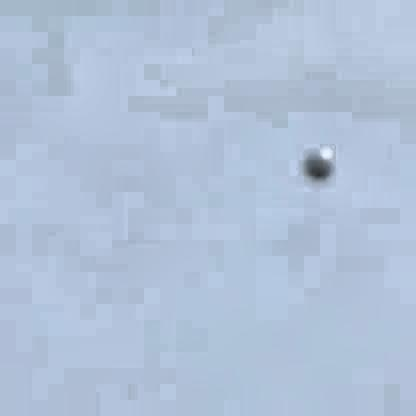golfball: (297, 145, 330, 181)
